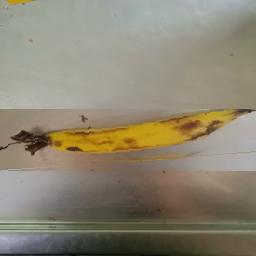Banana Semirotten: (0, 110, 256, 172)
